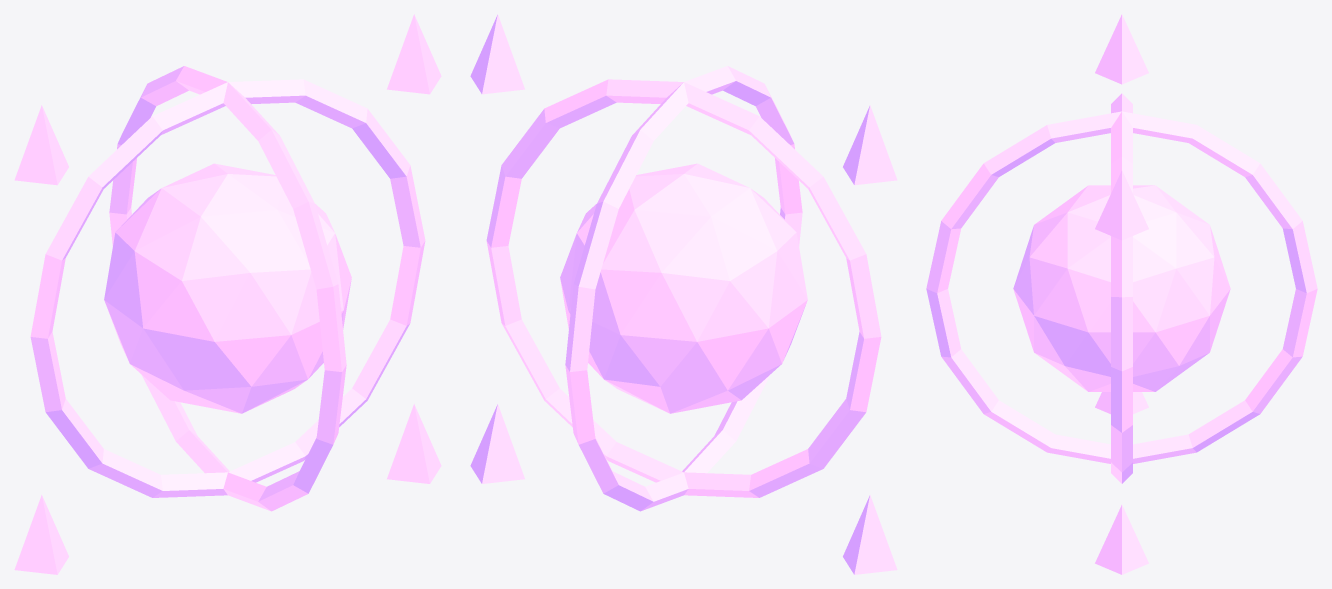
Rendered from magic_orb.glb.
3 renders of one model, left to right at view 1: azimuth 30°, elevation 25°; view 2: azimuth 150°, elevation 25°; view 3: azimuth 270°, elevation 25°, orthographic. The views are drawn at different scales.
Parts seen in each view (by area): view 1: MagicOrb; view 2: MagicOrb; view 3: MagicOrb.
Part boxes in pixels (x1,y1,x2,y2): MagicOrb: (14, 14, 441, 574); MagicOrb: (470, 14, 897, 574); MagicOrb: (926, 14, 1317, 574).
Bounding box in the file's own units: 0.3894 × 0.3994 × 0.36.
